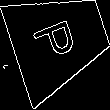P_E: (33, 15, 86, 66)
